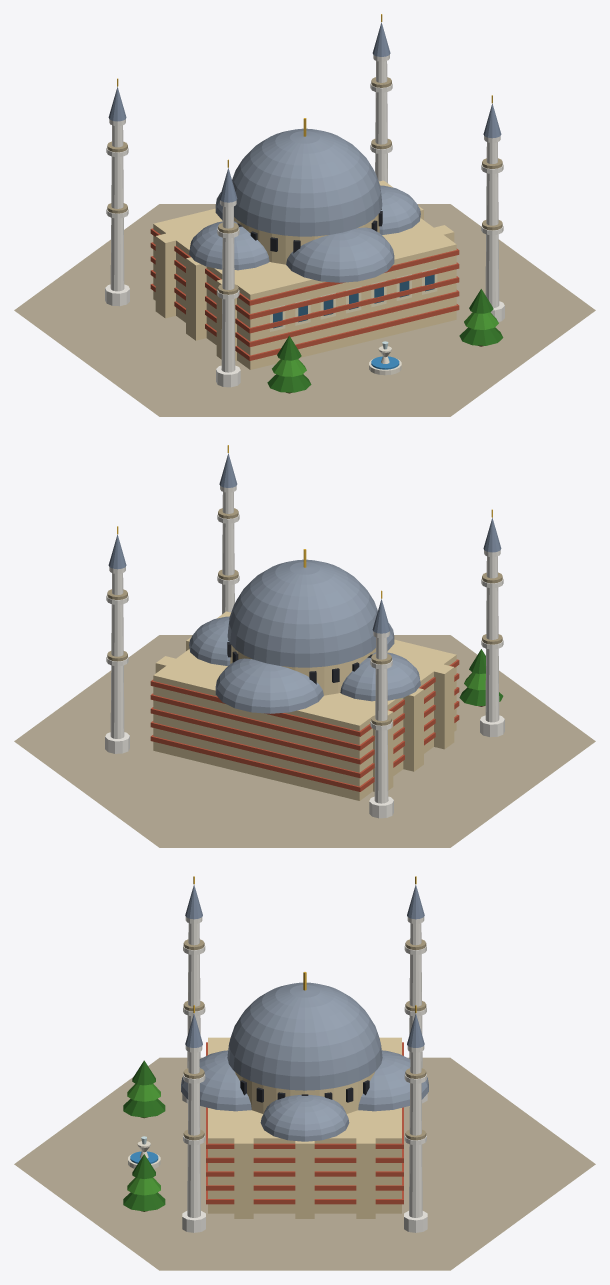
File: wonder_hagia_sophia.fbx
3 renders of one model, top to bottom at view 1: azimuth 30°, elevation 25°; view 2: azimuth 150°, elevation 25°; view 3: azimuth 270°, elevation 25°, orthographic.
Parts seen in each view (by area): view 1: wonder_hagia_sophia; view 2: wonder_hagia_sophia; view 3: wonder_hagia_sophia.
Boxes of the visible parts, <box> form: wonder_hagia_sophia: <box>14,14,595,416</box>; wonder_hagia_sophia: <box>14,445,595,847</box>; wonder_hagia_sophia: <box>14,876,595,1270</box>.
Size of the model in its own units: 182 by 88.9 by 210.
